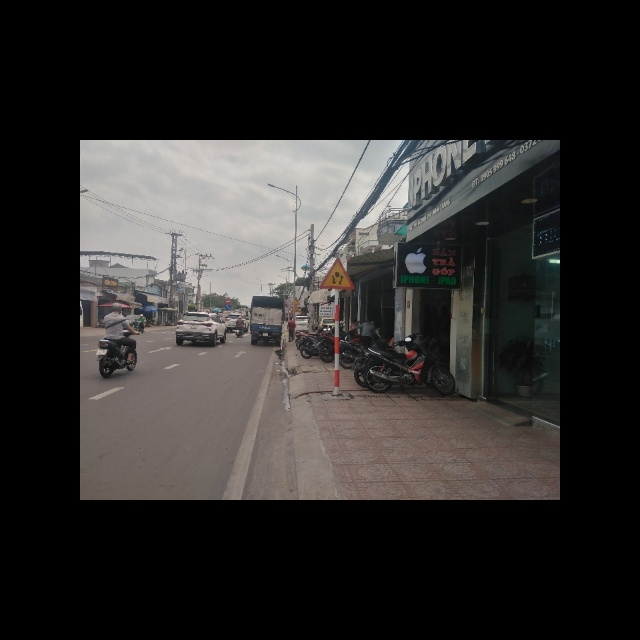Đường đôi: (318, 255, 355, 289)
